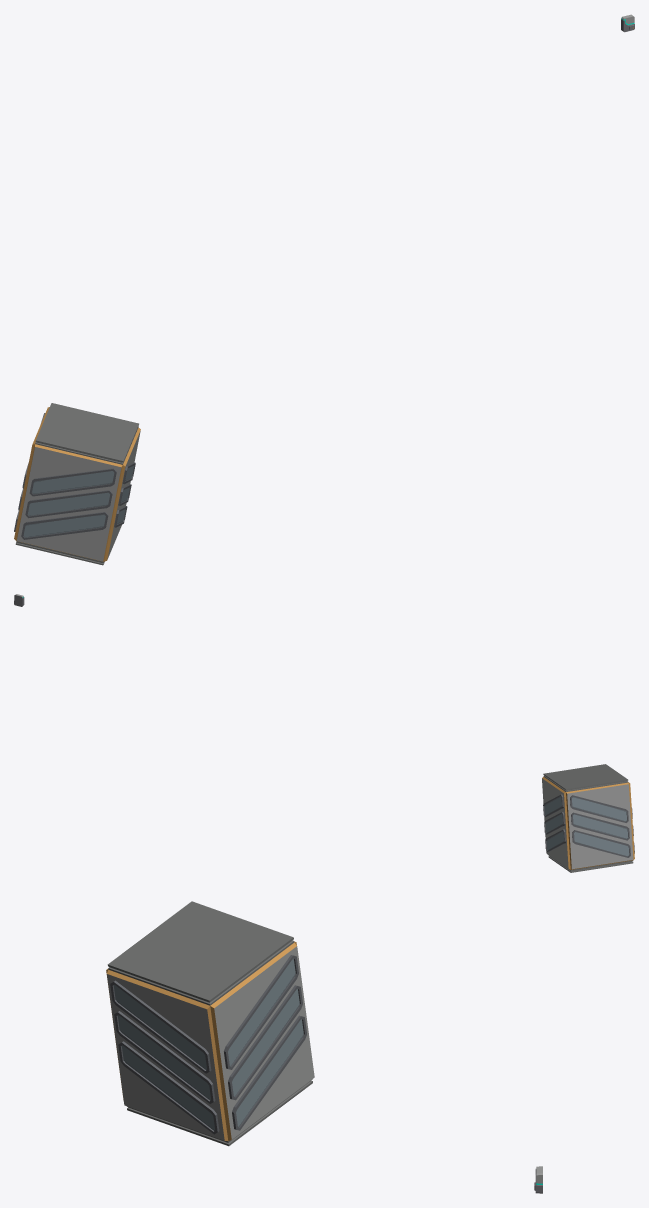
The model's file is SM_Bld_Section_Window_04 (1).fbx.
3 renders of one model, top to bottom at view 1: azimuth 30°, elevation 25°; view 2: azimuth 150°, elevation 25°; view 3: azimuth 270°, elevation 25°, orthographic. The views are drawn at different scales.
Visible parts, largest first — view 1: SM_Bld_Section_Window_04 (1); view 2: SM_Bld_Section_Window_04 (1); view 3: SM_Bld_Section_Window_04 (1).
Boxes of the visible parts, bbox=[...] form: SM_Bld_Section_Window_04 (1): bbox=[14, 403, 140, 565]; SM_Bld_Section_Window_04 (1): bbox=[542, 764, 634, 872]; SM_Bld_Section_Window_04 (1): bbox=[106, 901, 314, 1146].
Size of the model in its own units: 30.14 by 11.2 by 10.61.
